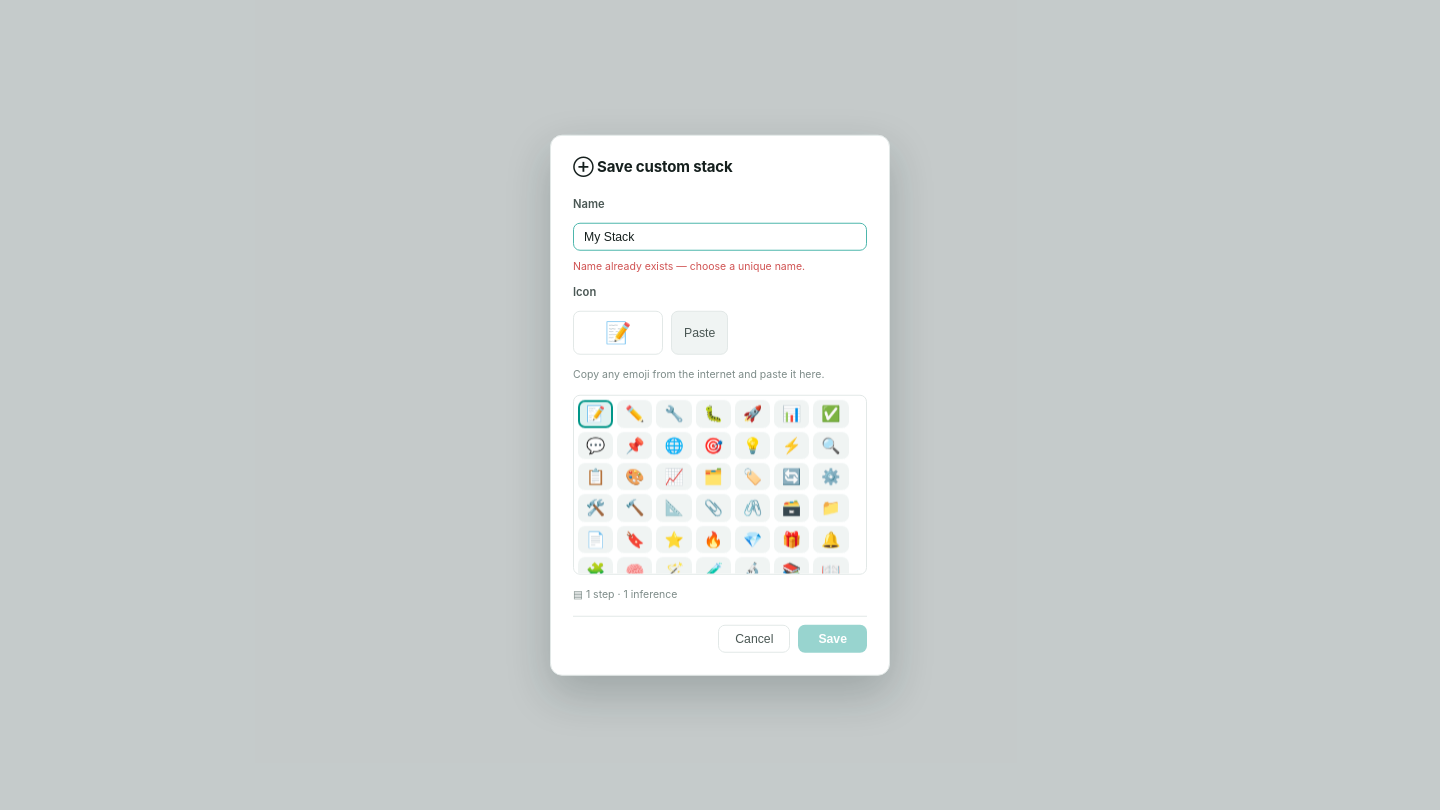
SaveStackDialog › shows a duplicate-name validation message
Clear the field labelled "Name" at (720, 237), box [573, 223, 867, 251]
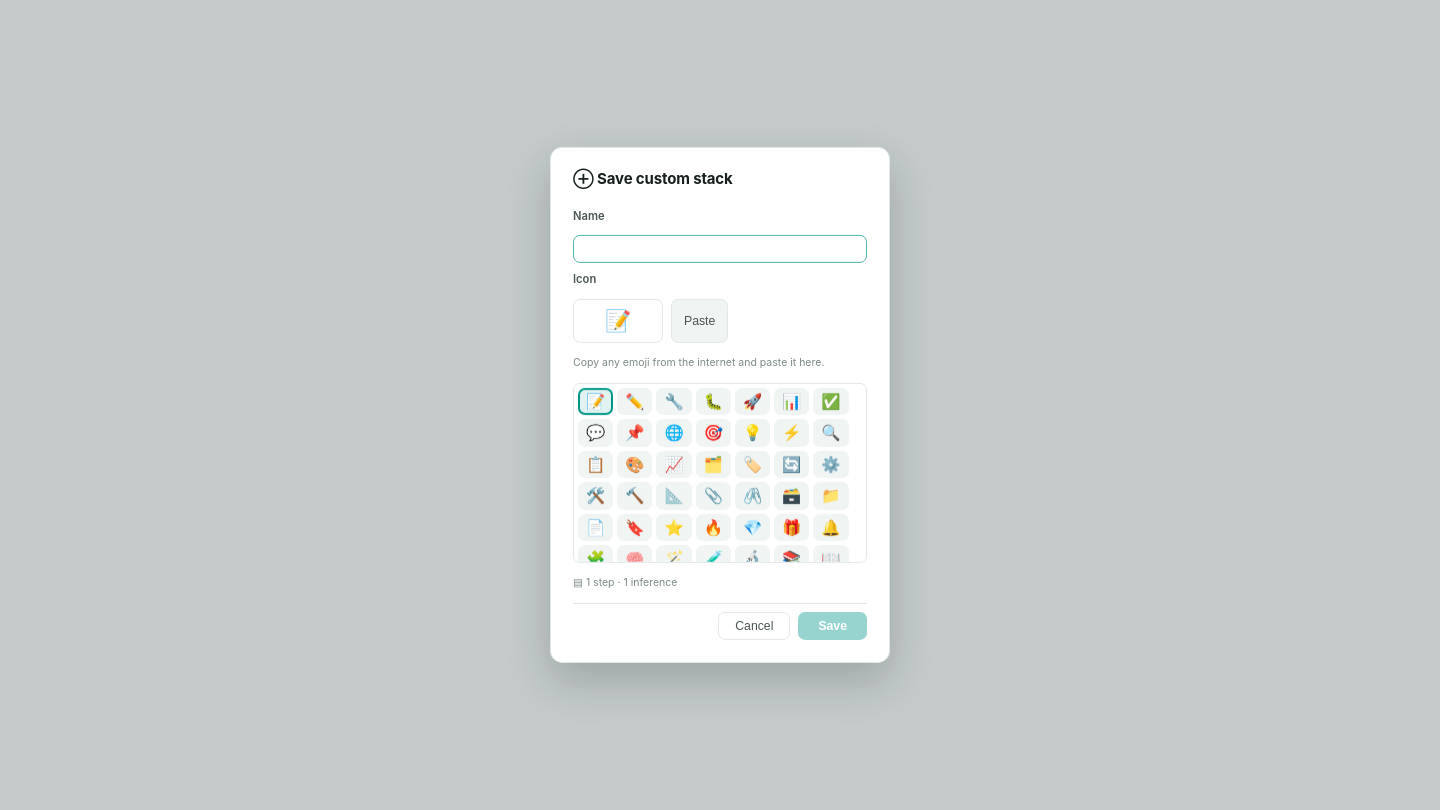
Type "My Stack" into the field labelled "Name" at (720, 249), box [573, 235, 867, 263]
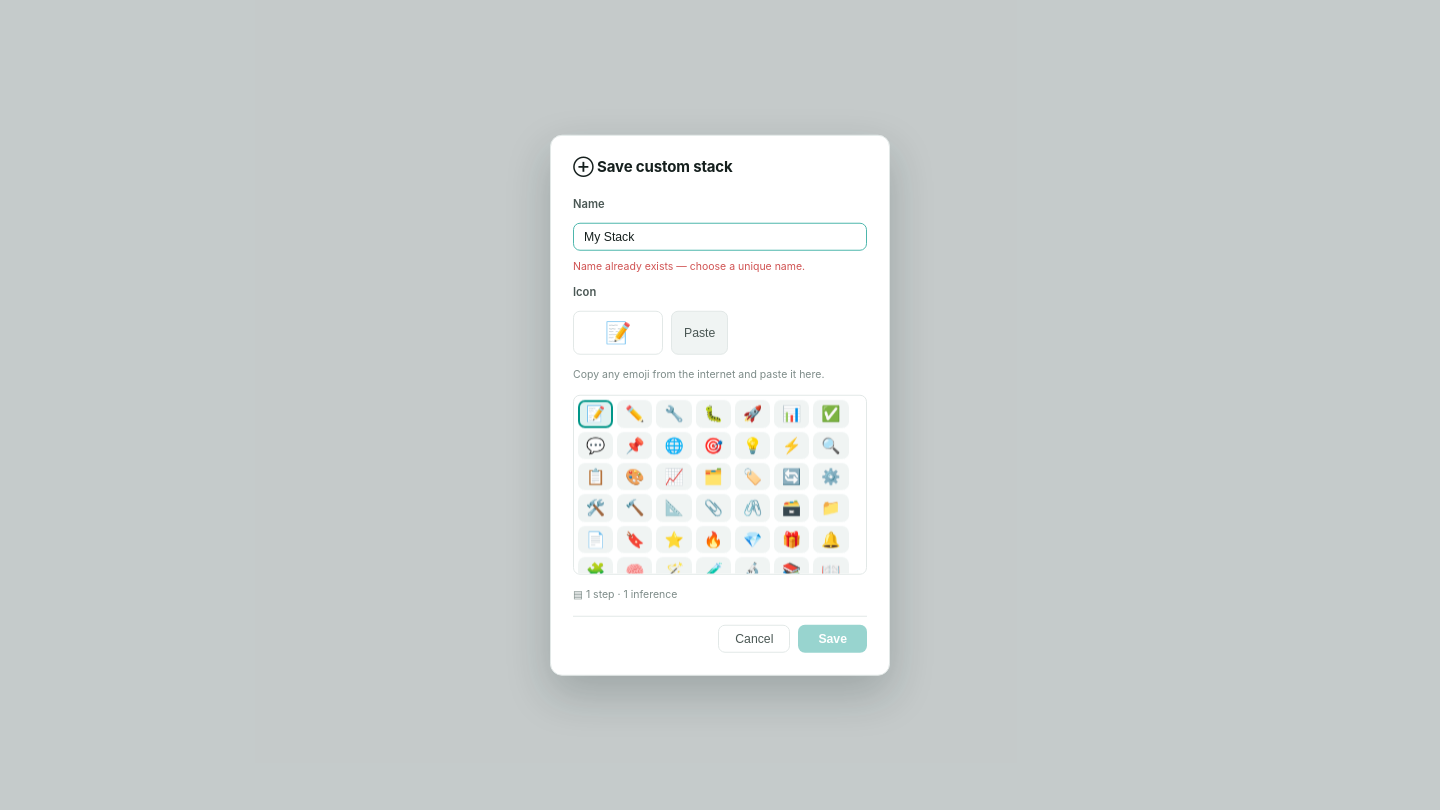
Check: the text "Name already exists — choose a unique name." is shown, box [573, 260, 805, 273]
